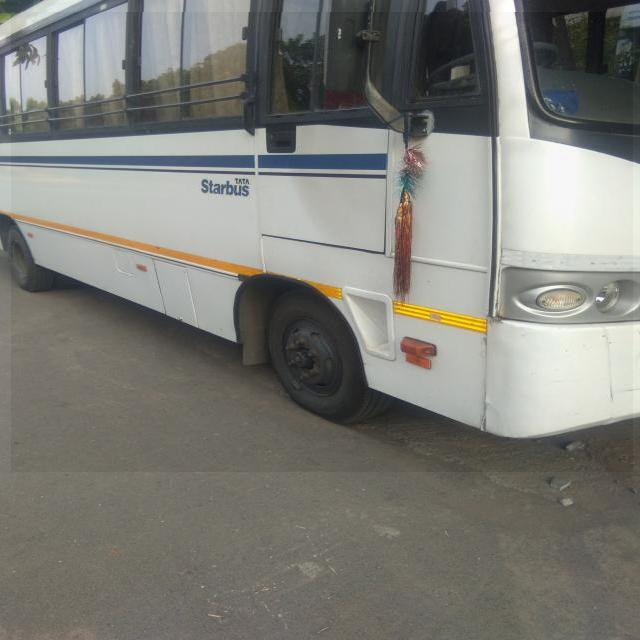Bus: (11, 12, 634, 472)
